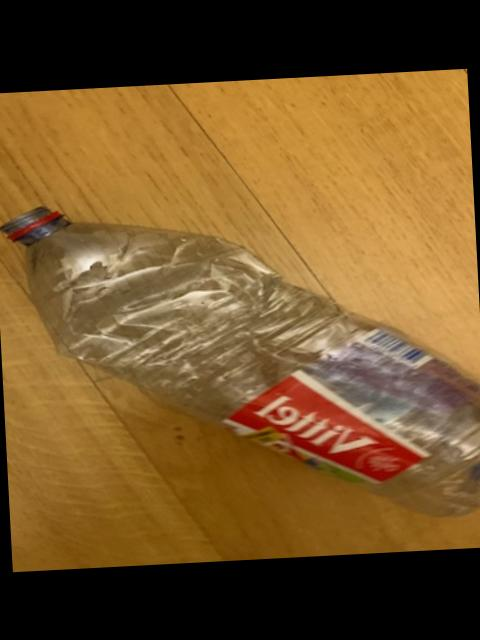plastic: (4, 209, 480, 517)
